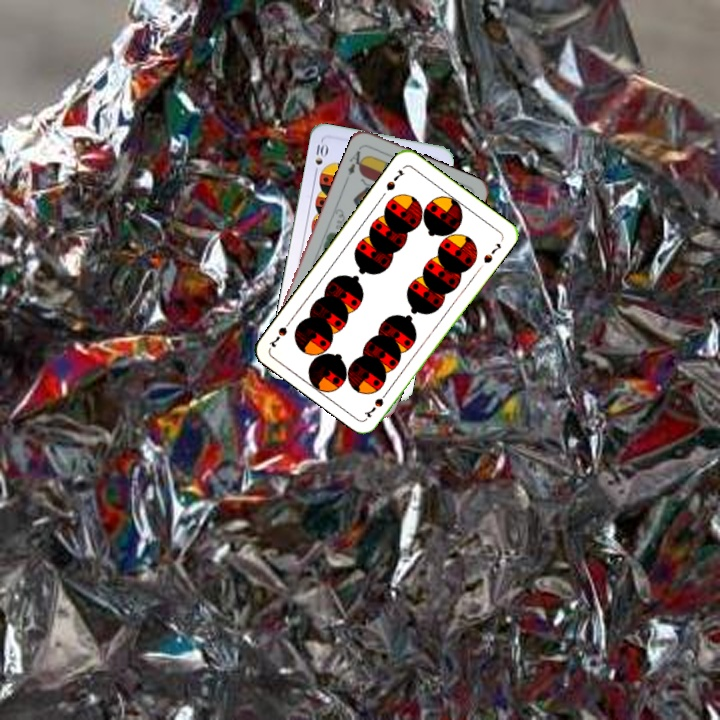EA: (344, 147, 369, 178)
S10: (310, 138, 330, 178)
S7: (360, 386, 392, 420), (382, 166, 407, 193)
